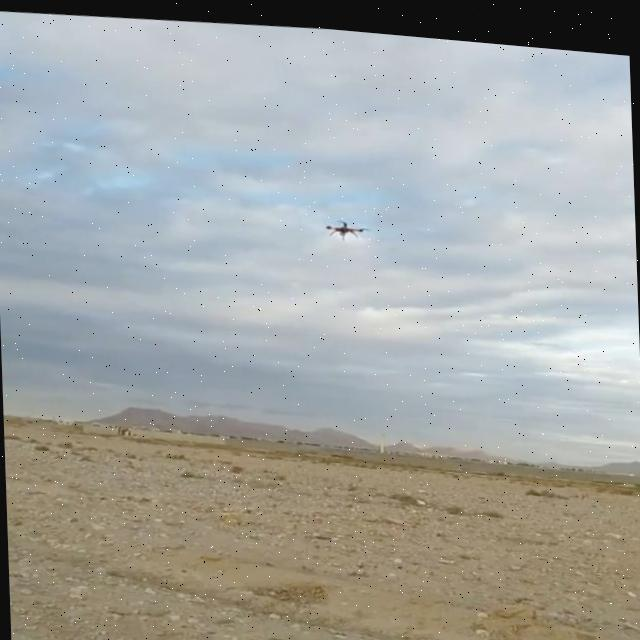drone: (319, 204, 372, 238)
